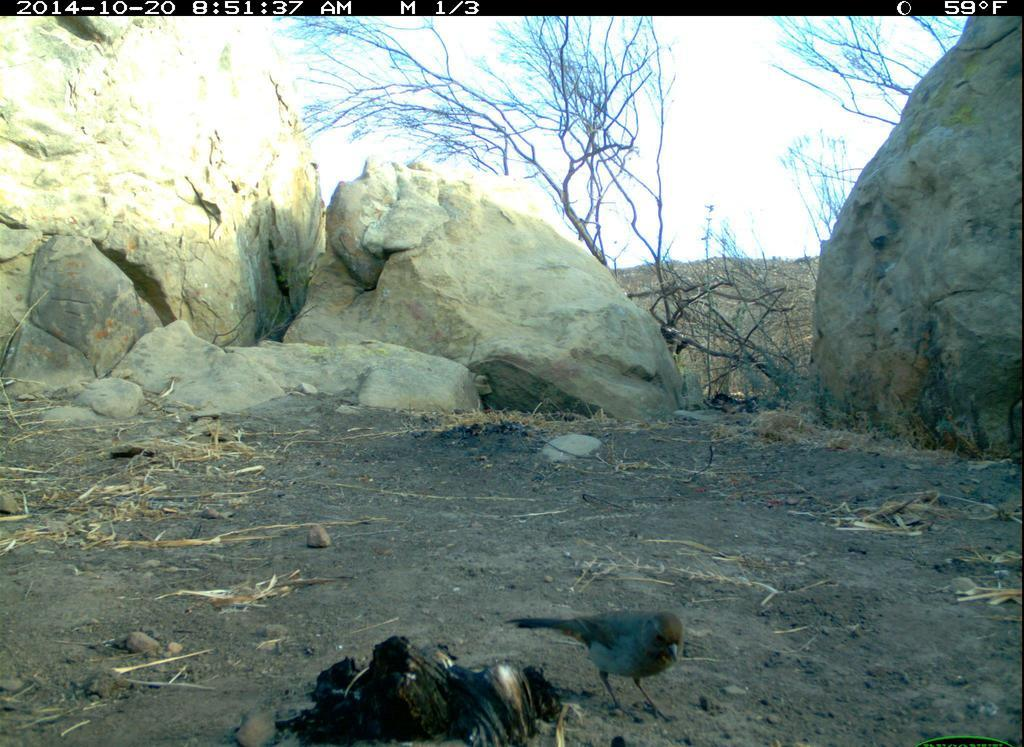bird: (502, 569, 721, 726)
